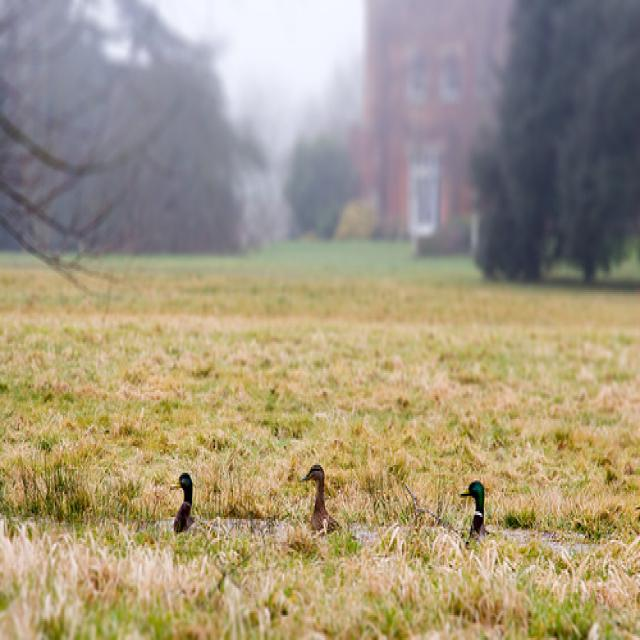bird: (297, 462, 347, 537), (457, 476, 507, 551), (167, 470, 207, 533)
